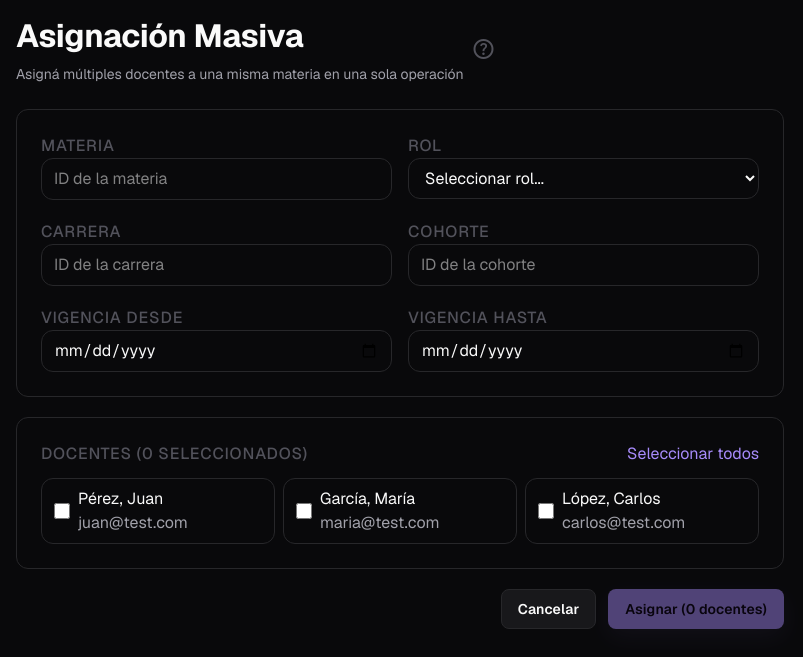
AsignacionMasivaPage › allows select all / deselect all
Click the button "Seleccionar todos". click: (693, 454)
box: [627,442,759,466]
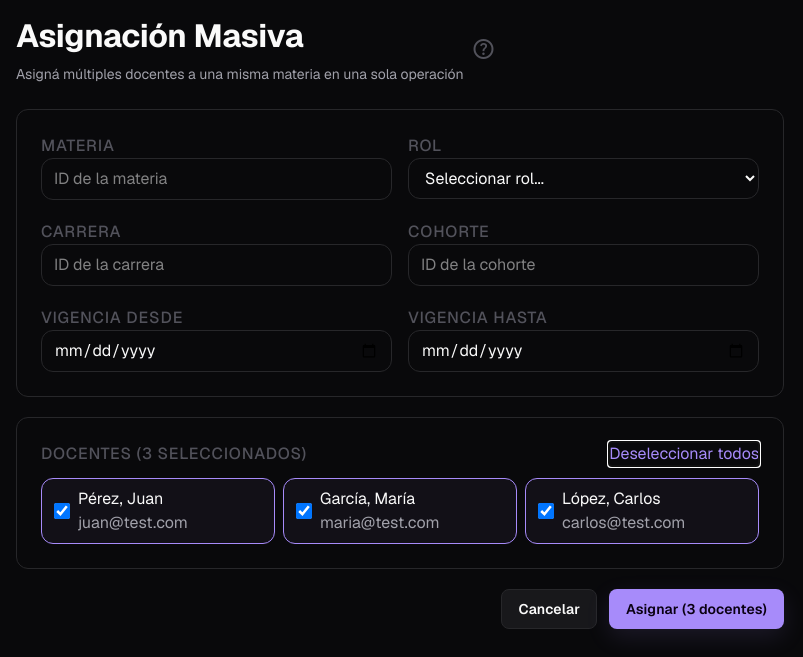
Check: the text "Docentes (3 seleccionados)" is shown, box [41,442,307,466]
Click the button "Deseleccionar todos". click: (684, 454)
box: [609,442,759,466]
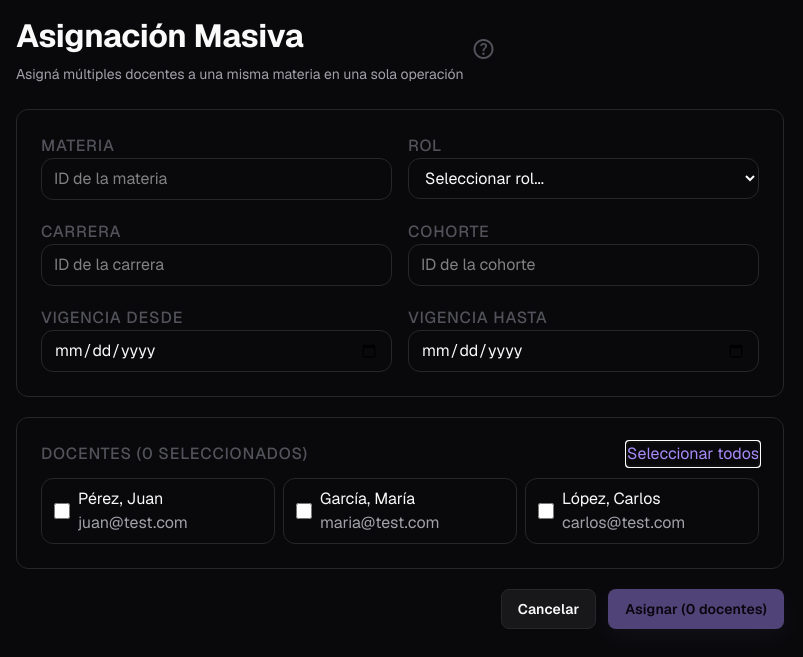
Check: the text "Docentes (0 seleccionados)" is shown, box [41,442,308,466]
